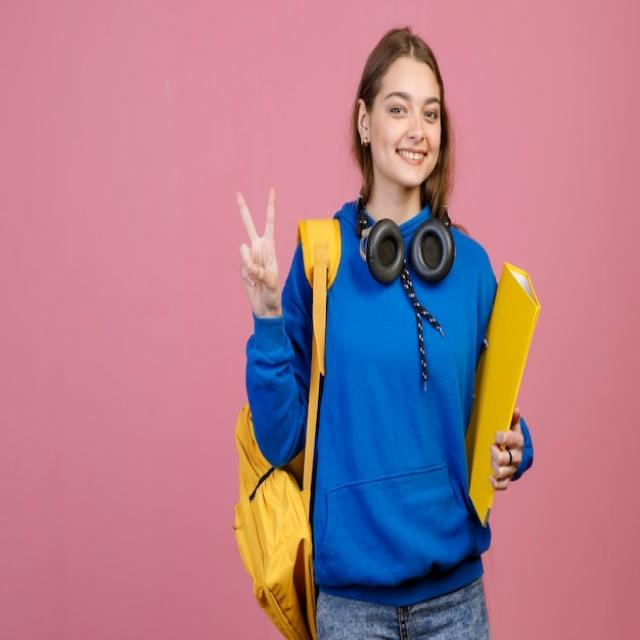Headphone: (354, 188, 457, 286)
